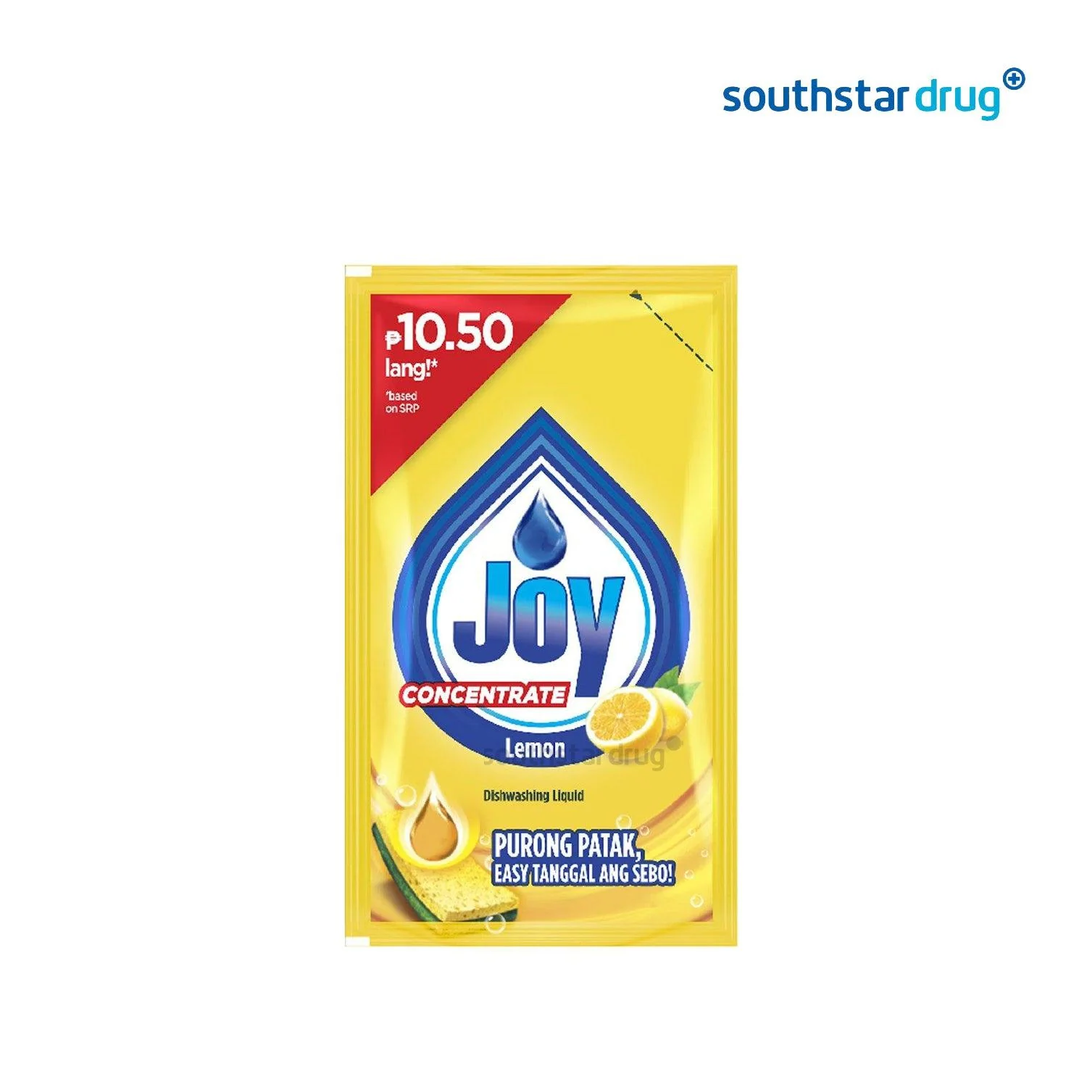toxic_waste: (336, 263, 743, 942)
